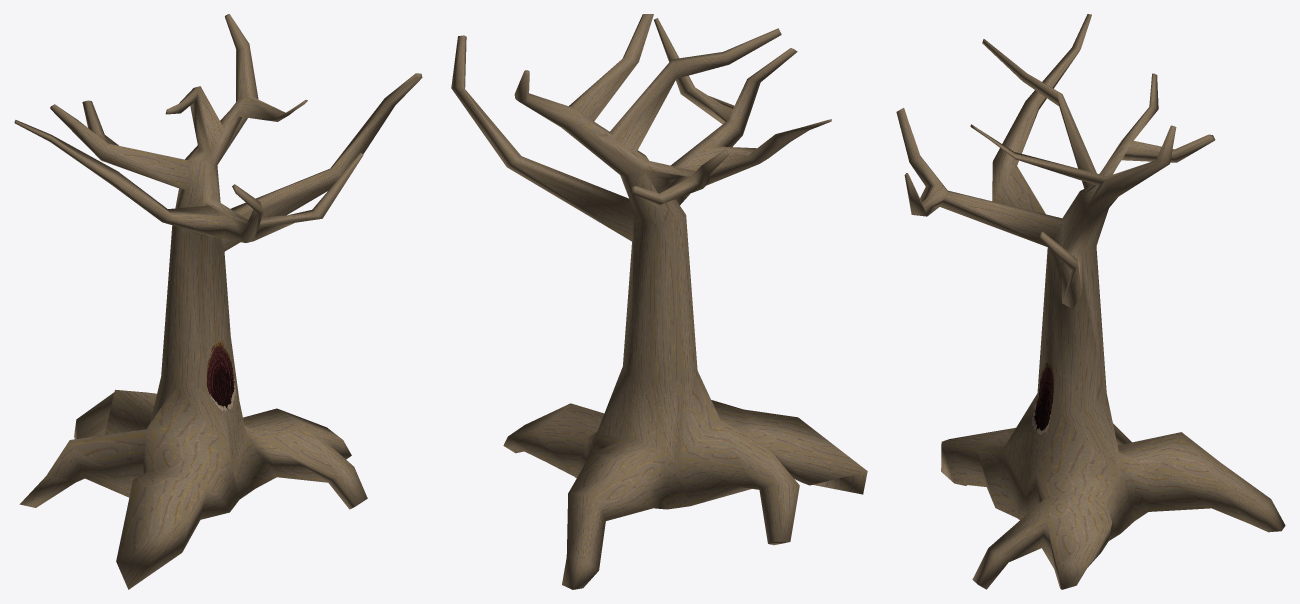
File: tree.glb
The picture shows the model from 3 angles, left to right: view 1: azimuth 30°, elevation 25°; view 2: azimuth 150°, elevation 25°; view 3: azimuth 270°, elevation 25°; orthographic projection. The views are drawn at different scales.
Parts seen in each view (by area): view 1: Tree; view 2: Tree; view 3: Tree.
Part boxes in pixels (x1=…): Tree: x1=14, y1=14, x2=422, y2=589; Tree: x1=451, y1=14, x2=867, y2=589; Tree: x1=896, y1=14, x2=1285, y2=589.
Bounding box in the file's own units: 8.3 × 9.32 × 7.09.
1 material, 1 textured.
